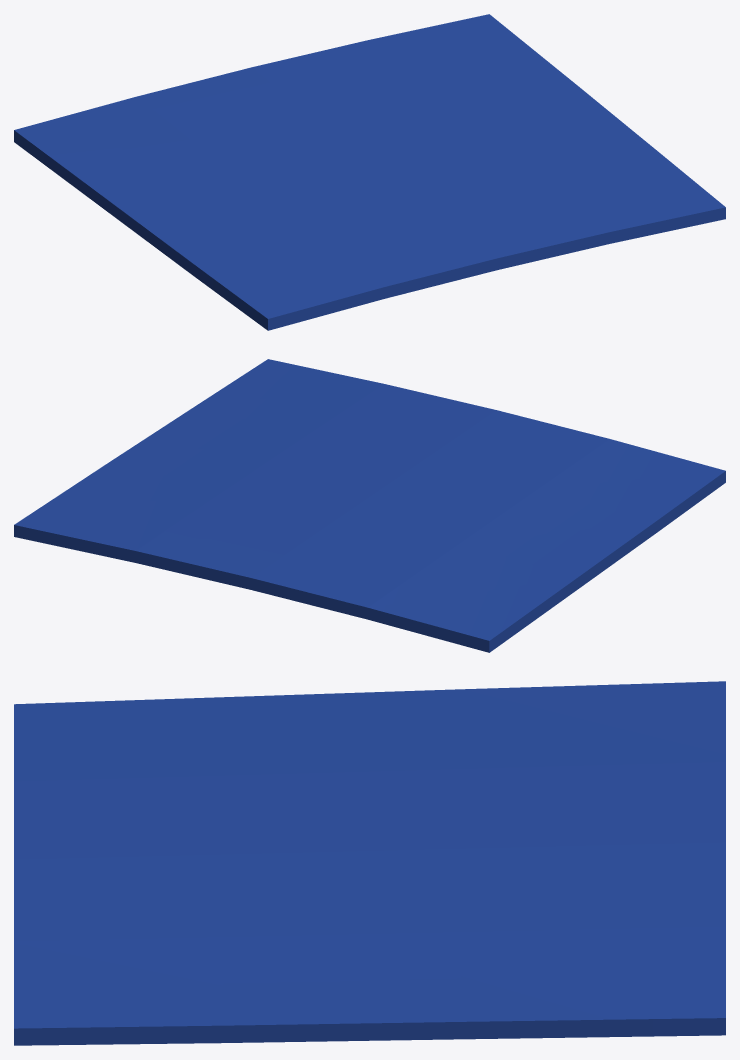
Rendered from strada_evo_bonnet.glb.
3 views of the same model, one above another, from view 1: azimuth 30°, elevation 25°; view 2: azimuth 150°, elevation 25°; view 3: azimuth 270°, elevation 25° (orthographic). The views are drawn at different scales.
Parts seen in each view (by area): view 1: strada_evo_bonnet; view 2: strada_evo_bonnet; view 3: strada_evo_bonnet.
Boxes of the visible parts, left/top/right/bottom form: strada_evo_bonnet: left=14, top=14, right=725, bottom=330; strada_evo_bonnet: left=14, top=359, right=725, bottom=652; strada_evo_bonnet: left=14, top=681, right=725, bottom=1045.
Size of the model in its own units: 1.42 by 0.0801 by 1.26.
